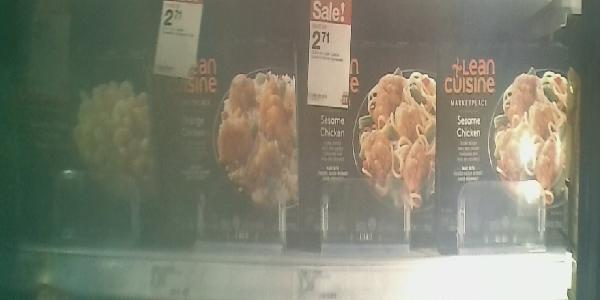pizza1: (437, 50, 590, 261), (300, 49, 437, 260), (159, 49, 299, 249), (18, 49, 158, 245)
